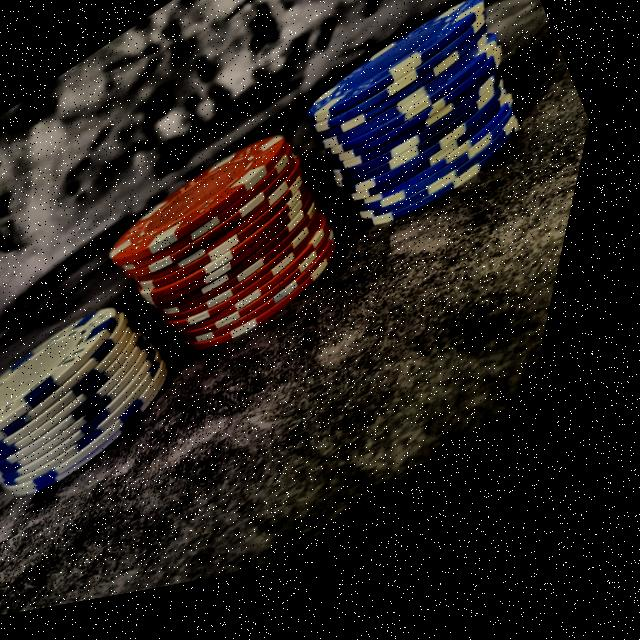Chip: (65, 83, 411, 434), (260, 0, 594, 309), (0, 254, 237, 566)
